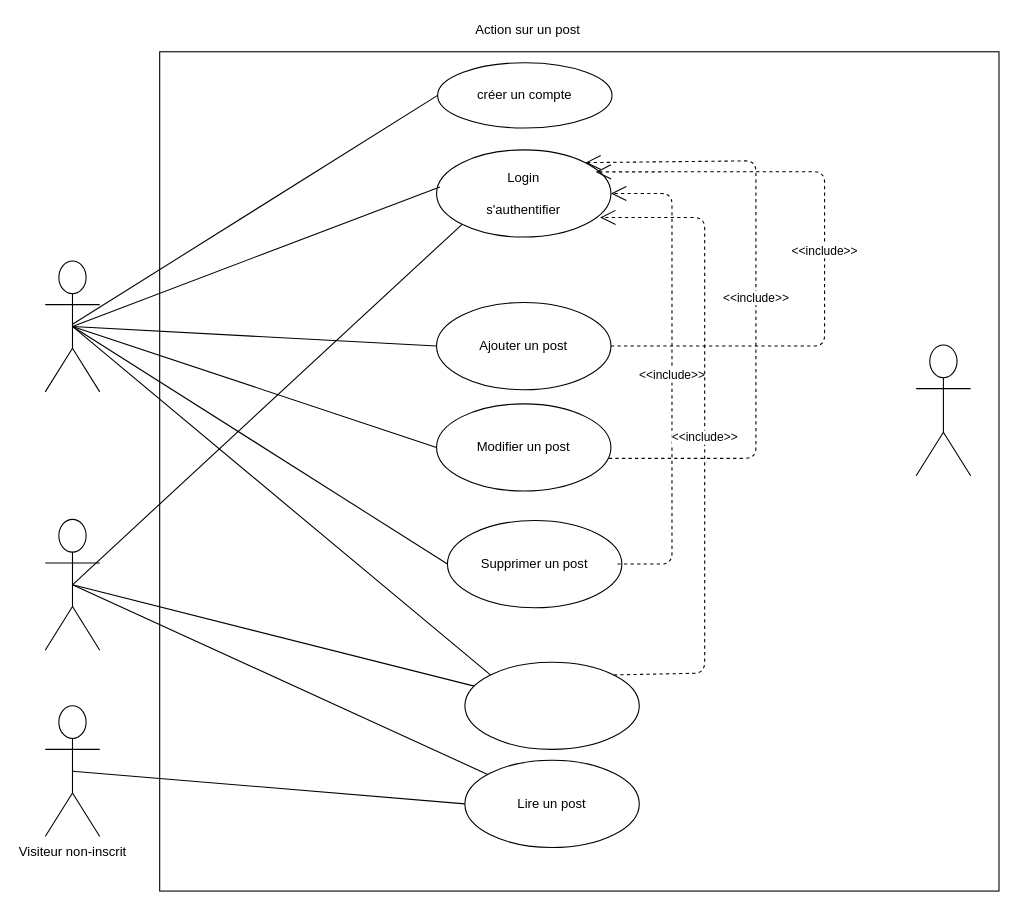
Image size: 1018x910. Some labels were removed from this diagram. The centre of each missing label's shape, as x and y in pixels:
"<<Système>>" goes at point (943, 410).
"Blogueur" goes at point (72, 326).
"Commenter un post" goes at point (551, 705).
"Visiteur inscrit" goes at point (72, 584).
